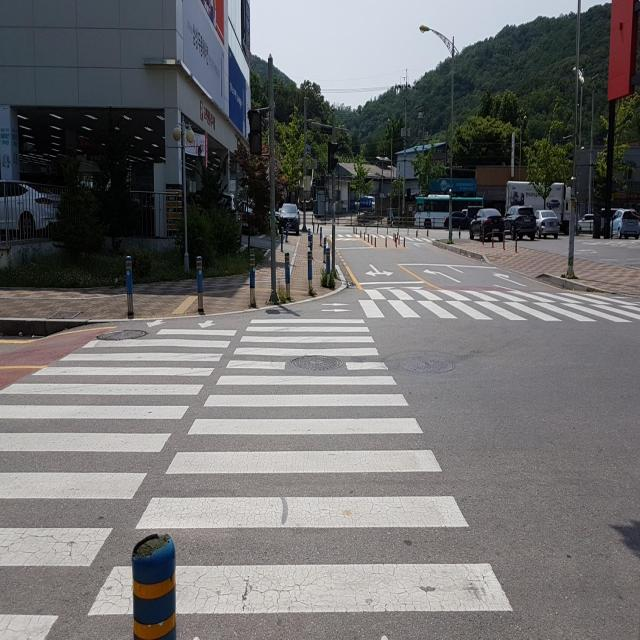횡단보도: (0, 317, 514, 640), (350, 283, 640, 326), (328, 229, 442, 251)
